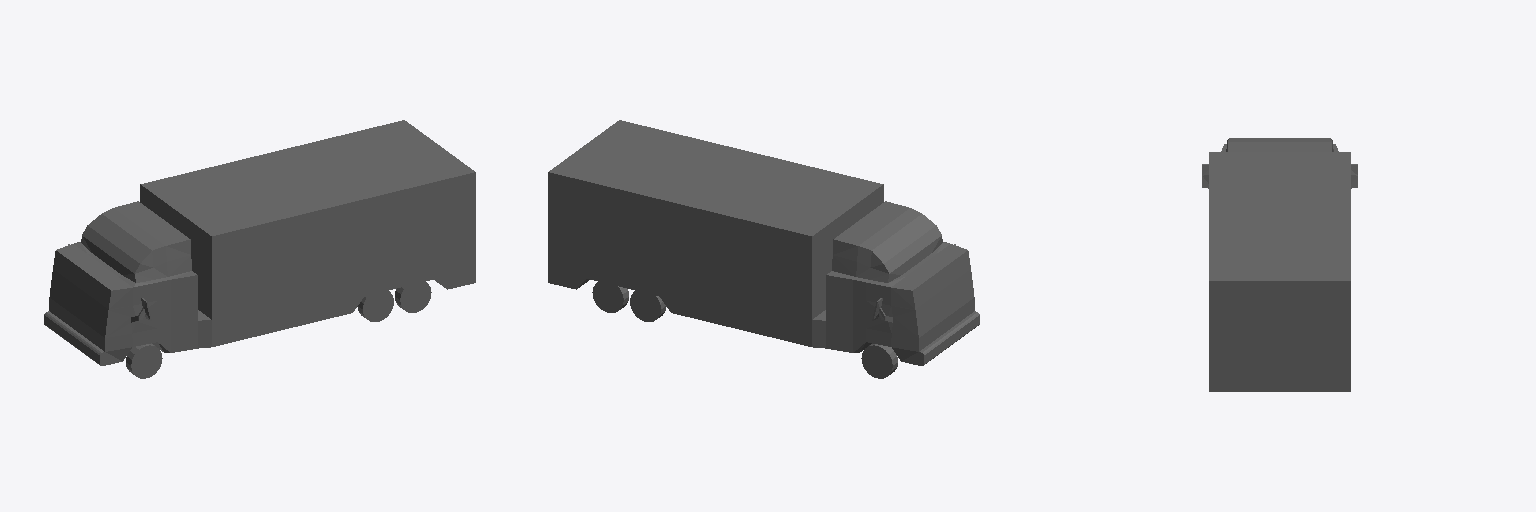
The model's file is truck.obj.
3 renders of one model, left to right at view 1: azimuth 30°, elevation 25°; view 2: azimuth 150°, elevation 25°; view 3: azimuth 270°, elevation 25°, orthographic.
Parts seen in each view (by area): view 1: truck; view 2: truck; view 3: truck.
Part boxes in pixels (left/top/right/bottom): truck: left=44, top=120, right=475, bottom=378; truck: left=548, top=120, right=979, bottom=378; truck: left=1202, top=138, right=1357, bottom=391.
Bounding box in the file's own units: 25.62 × 8.65 × 9.41.